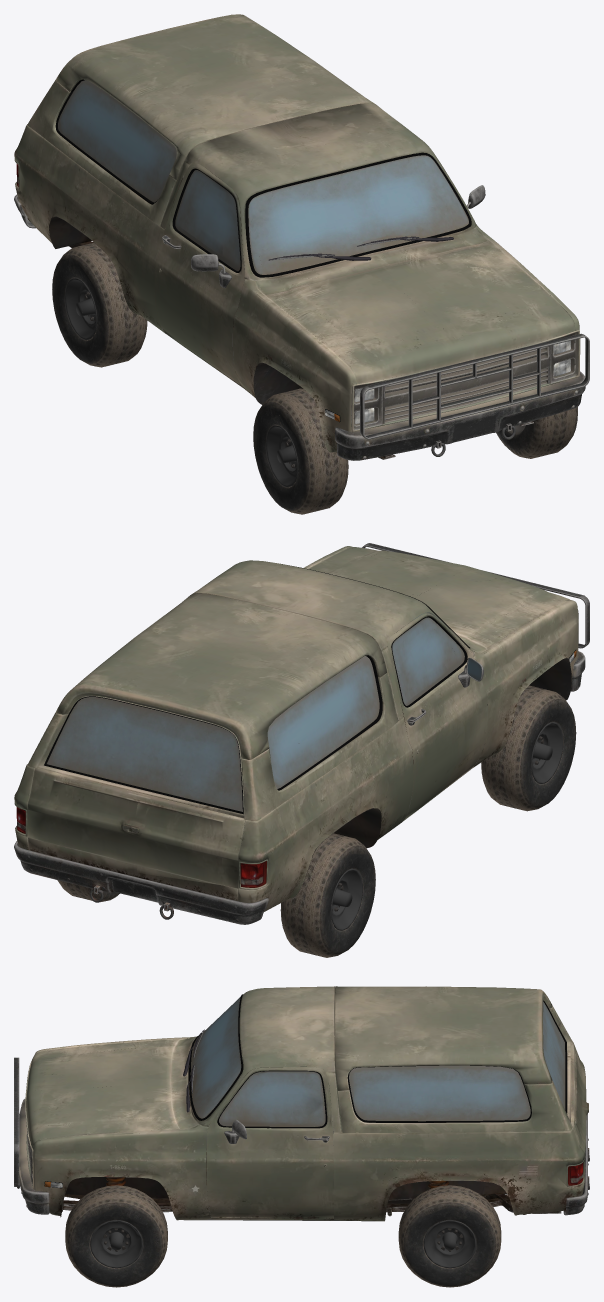
File: 1986-chevrolet-m1009-d2a462.glb
3 views of the same model, one above another, from view 1: azimuth 30°, elevation 25°; view 2: azimuth 150°, elevation 25°; view 3: azimuth 270°, elevation 25° (orthographic). The views are drawn at different scales.
Visible parts, largest first — view 1: body, wheel-front-right, wheel-back-right, wheel-front-left; view 2: body, wheel-back-right, wheel-front-right; view 3: body, wheel-back-left, wheel-front-left.
Boxes of the visible parts, x1,y1,x2,y2 form: body: (14, 14, 589, 460); wheel-front-right: (253, 388, 348, 514); wheel-back-right: (52, 242, 147, 367); wheel-front-left: (496, 407, 577, 458); body: (14, 543, 589, 924); wheel-back-right: (280, 833, 375, 957); wheel-front-right: (481, 685, 576, 811); body: (14, 986, 589, 1222); wheel-back-left: (398, 1185, 501, 1287); wheel-front-left: (65, 1185, 167, 1287).
Bounding box in the file's own units: 2.01 × 1.73 × 4.12.
Materials: 9 (7 with a texture image).
